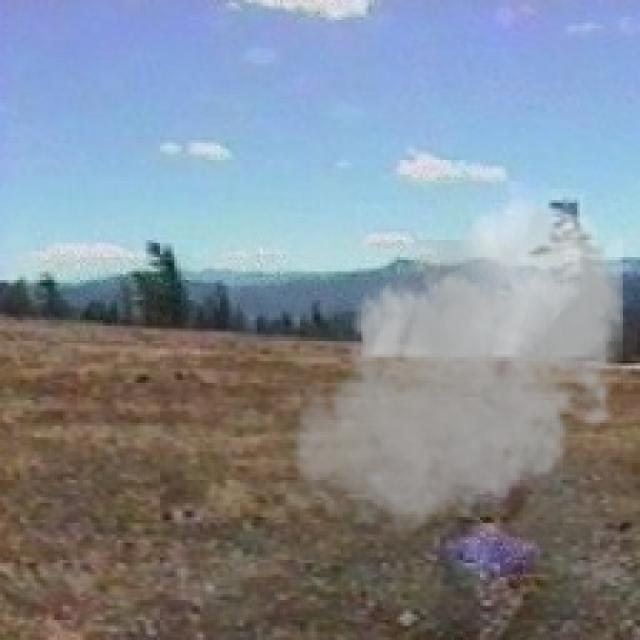smoke: (286, 188, 637, 546)
